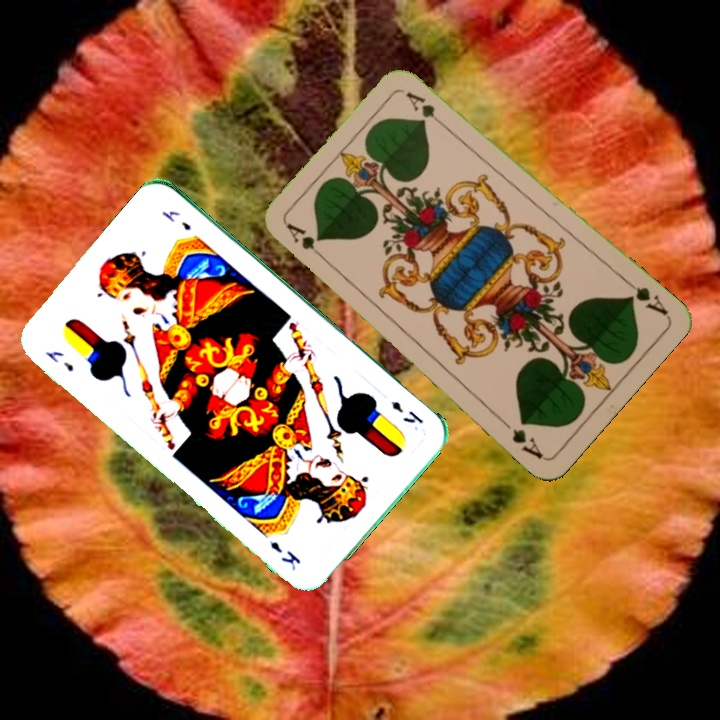EK: (386, 396, 425, 426), (41, 346, 76, 375)
GA: (283, 219, 331, 265), (620, 275, 671, 318)
